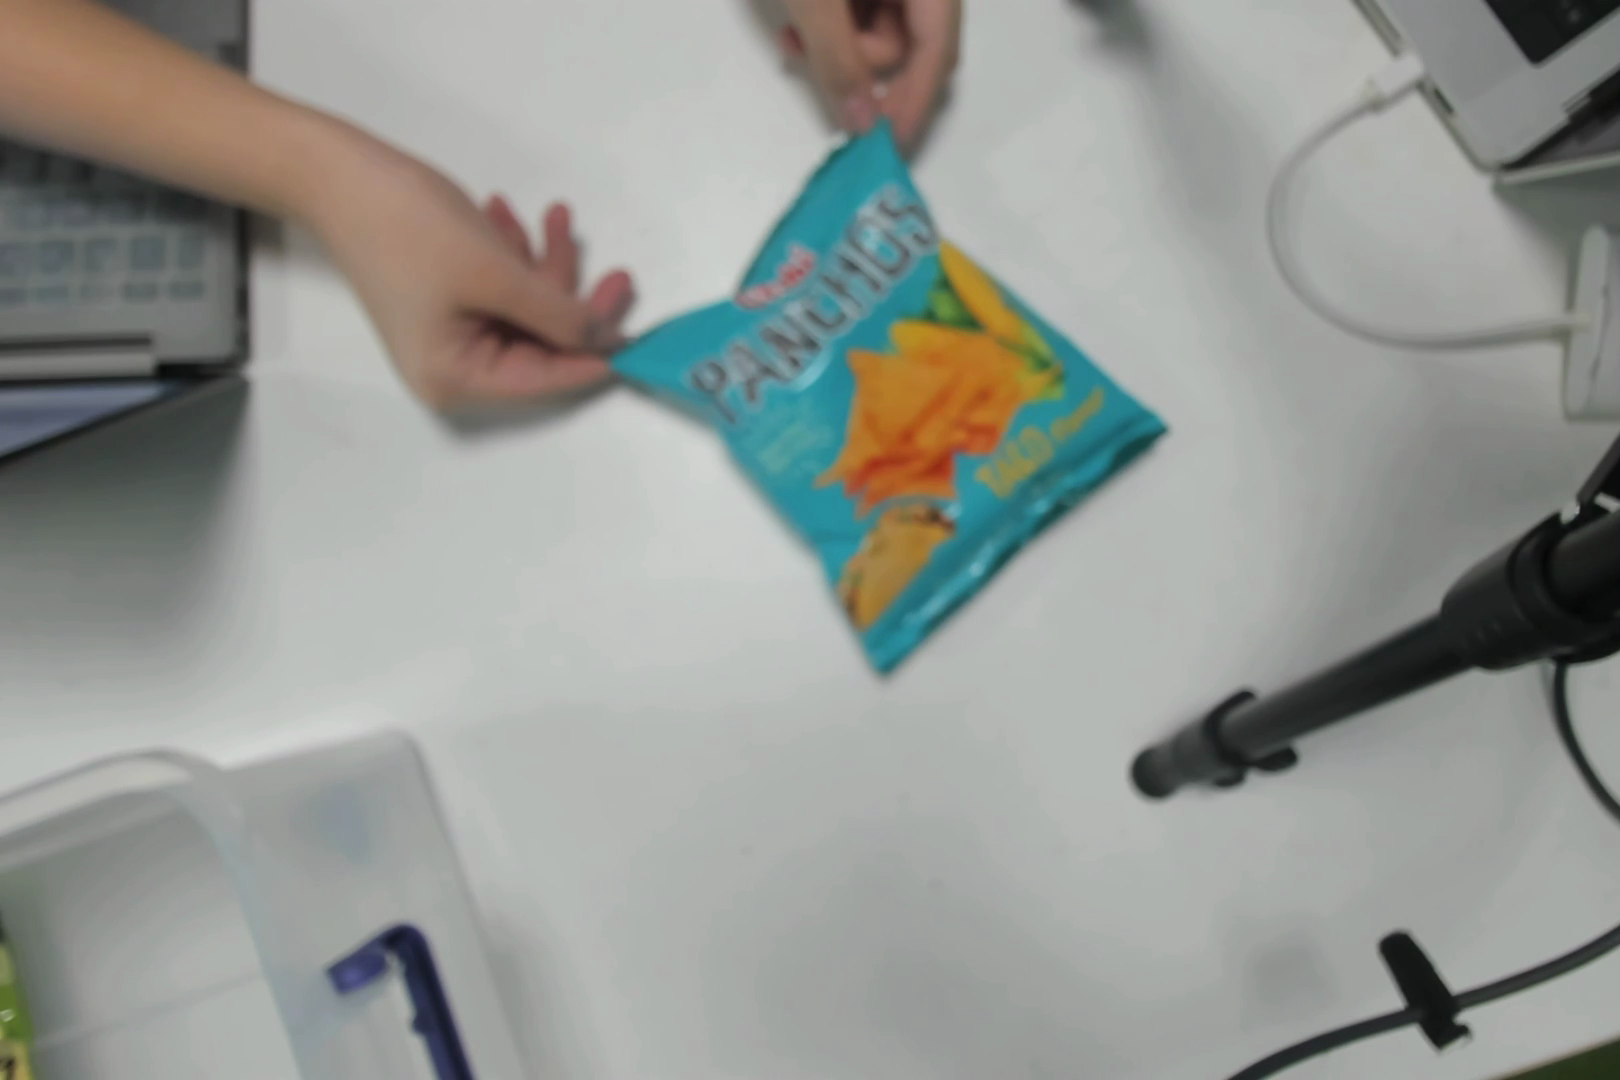PotatochipsKeropok_1-99g_NonHalal_NonHealthy: (704, 184, 1115, 601)
